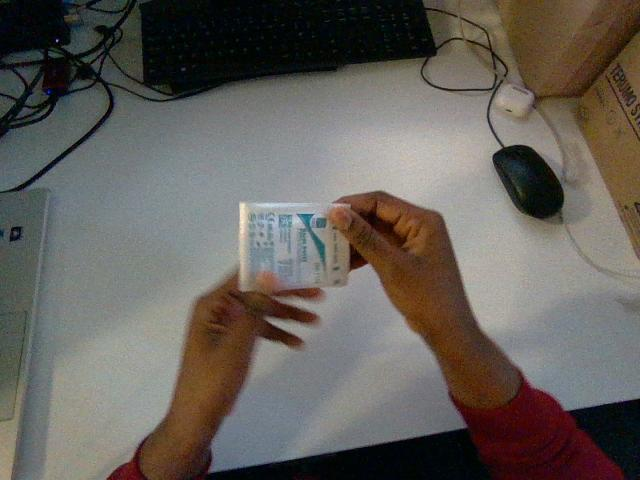gauze: (239, 202, 349, 290)
